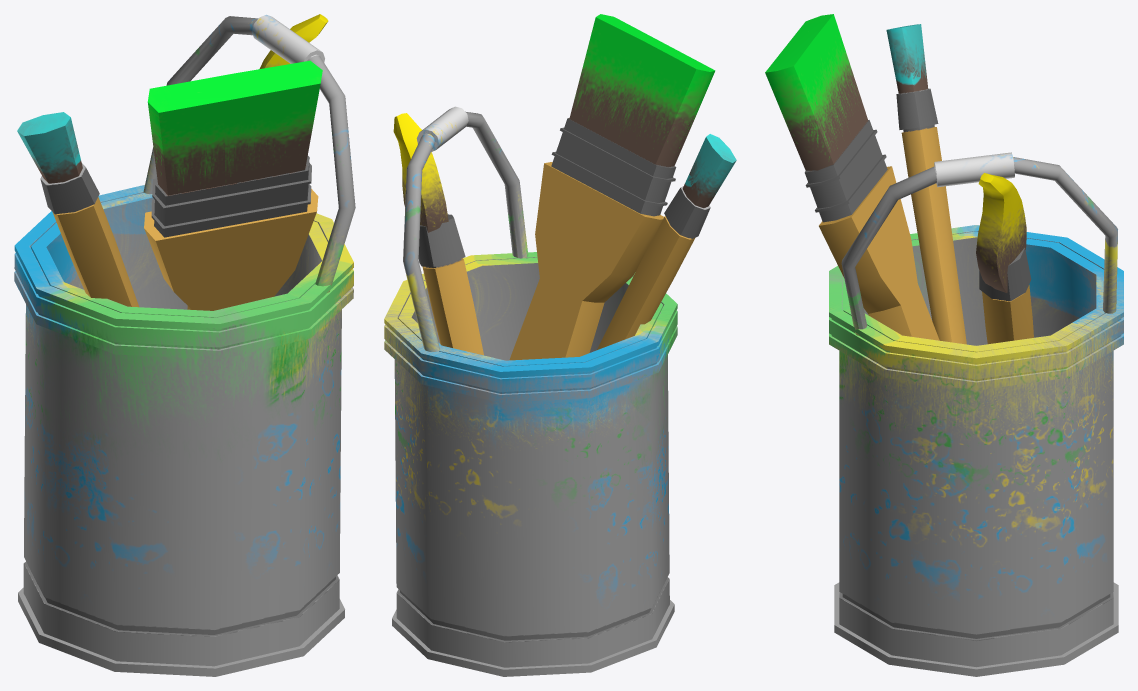
The model's file is paint bucket.fbx.
3 renders of one model, left to right at view 1: azimuth 30°, elevation 25°; view 2: azimuth 150°, elevation 25°; view 3: azimuth 270°, elevation 25°, orthographic. The views are drawn at different scales.
Visible parts, largest first — view 1: brush_6; view 2: brush_6; view 3: brush_6.
Boxes of the visible parts, bbox=[...] form: brush_6: bbox=[14, 14, 355, 676]; brush_6: bbox=[384, 14, 736, 676]; brush_6: bbox=[765, 14, 1123, 676].
Size of the model in its own units: 5.9 by 9.91 by 5.75.
